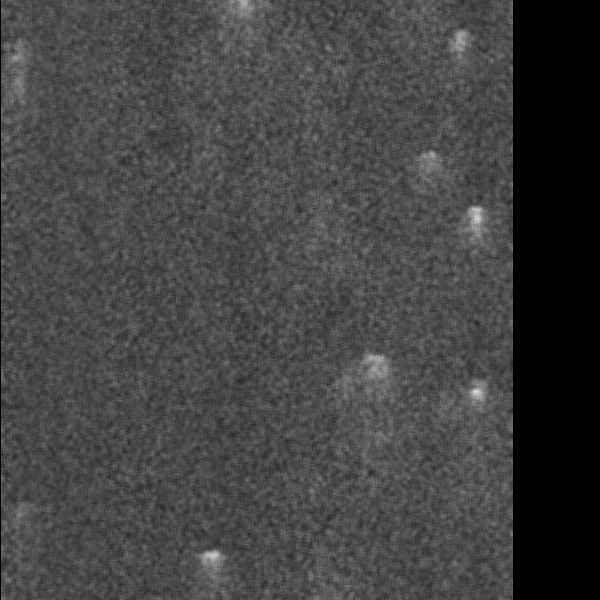spark: (363, 344, 396, 416), (464, 200, 491, 278), (194, 541, 230, 591), (449, 25, 471, 104), (418, 146, 442, 201), (466, 383, 490, 421), (1, 47, 31, 68), (411, 1, 424, 31)
